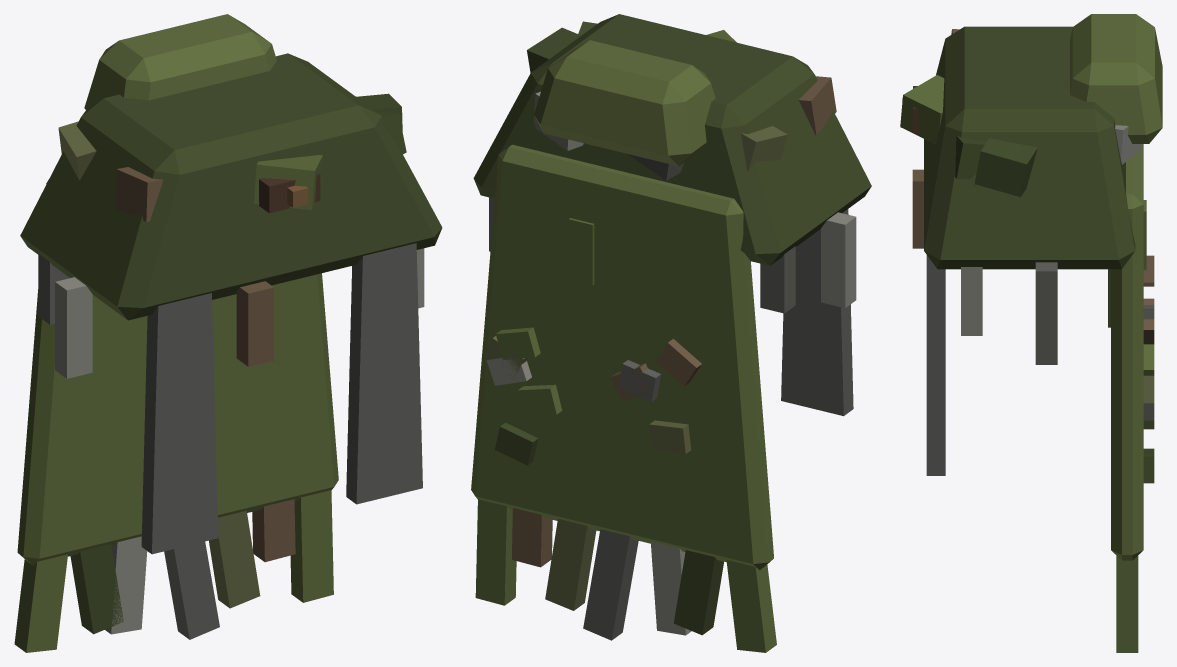
Rendered from item_camo_cloak.glb.
3 renders of one model, left to right at view 1: azimuth 30°, elevation 25°; view 2: azimuth 150°, elevation 25°; view 3: azimuth 270°, elevation 25°, orthographic. The views are drawn at different scales.
Visible parts, largest first — view 1: camo_cloak; view 2: camo_cloak; view 3: camo_cloak.
Part boxes in pixels (x1,y1,x2,y2): camo_cloak: (14, 14, 442, 652); camo_cloak: (471, 14, 871, 652); camo_cloak: (900, 14, 1162, 652).
Size of the model in its own units: 0.7019 by 1.13 by 0.4839.
